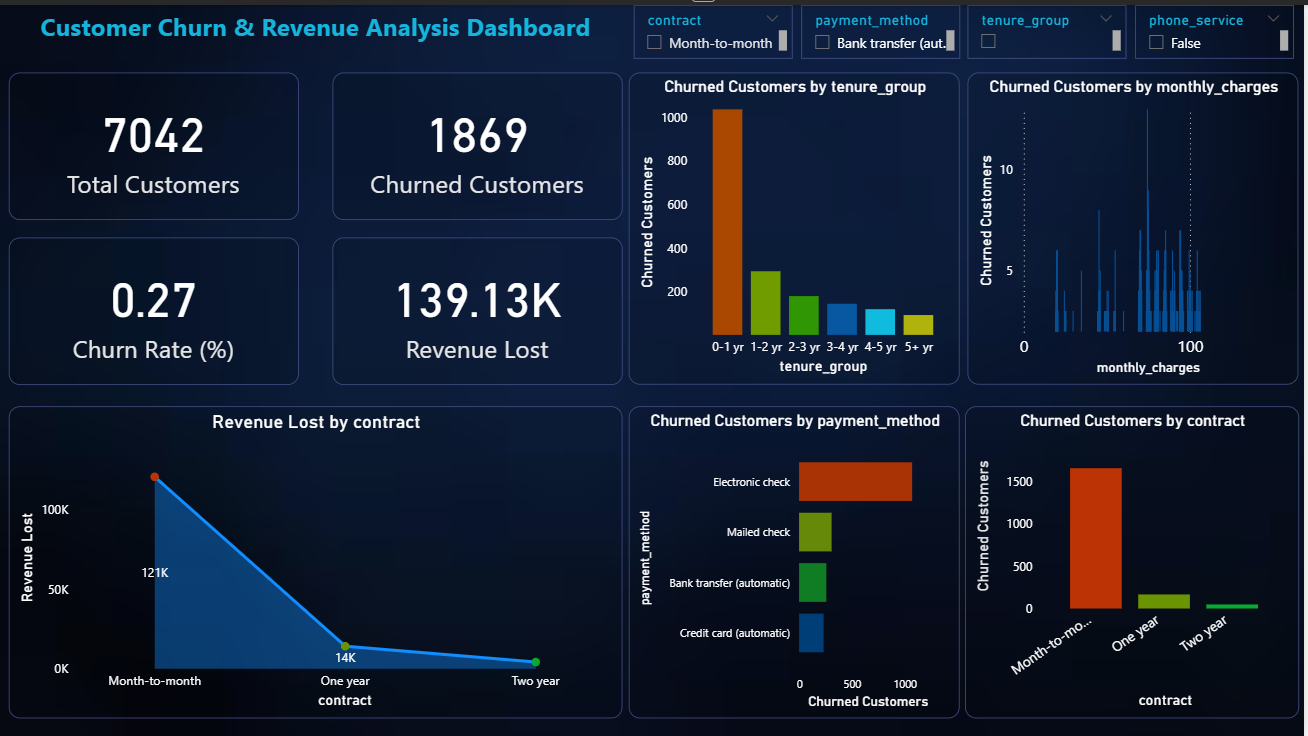

Layout of this report page (visuals, bound fields, positions):
{"tool":"powerbi","page":{"name":"Page 1","canvas":[1280,720],"ordinal":0},"visuals":[{"type":"slicer","fields":{"Values":["churn_final.contract"]},"box":[776.7,0,168.8,85.1],"z":0},{"type":"slicer","fields":{"Values":["churn_final.tenure_group"]},"box":[942.7,0,168.8,85.1],"z":1000},{"type":"slicer","fields":{"Values":["churn_final.payment_method"]},"box":[1111.5,0,168.8,85.1],"z":2000},{"type":"clusteredColumnChart","fields":{"Y":["churn_final.Revenue Lost"]},"box":[607.9,85.1,160.5,241.5],"z":3000},{"type":"textbox","box":[382.3,460.6,169,259],"z":4000},{"type":"textbox","box":[20,100.2,150,221],"z":5000},{"type":"textbox","box":[0,0,768.4,85.1],"z":6000},{"type":"clusteredColumnChart","fields":{"Y":["churn_final.Total Customers"]},"box":[0,85.1,140,241.5],"z":7000},{"type":"clusteredColumnChart","fields":{"Y":["churn_final.Churned Customers"]},"box":[289.5,85.1,157.8,241.5],"z":8000},{"type":"clusteredColumnChart","fields":{"Y":["churn_final.Churn Rate (%)"]},"box":[140,85.1,149.6,241.5],"z":9000},{"type":"clusteredColumnChart","fields":{"Y":["churn_final.Active Customers"]},"box":[447.3,85.1,160.5,241.5],"z":10000},{"type":"clusteredColumnChart","fields":{"Category":["churn_final.contract"],"Y":["churn_final.Churned Customers"]},"box":[776.7,85.1,503.6,286.8],"z":11000},{"type":"clusteredColumnChart","fields":{"Category":["churn_final.tenure_group"],"Y":["churn_final.Churned Customers"]},"box":[382.8,371.9,385.6,348.5],"z":12000},{"type":"clusteredColumnChart","fields":{"Category":["churn_final.payment_method"],"Y":["churn_final.Churned Customers"]},"box":[0,371.9,382.8,348.5],"z":13000},{"type":"clusteredColumnChart","fields":{"Category":["churn_final.contract"],"Y":["churn_final.Revenue Lost"]},"box":[776.7,371.9,503.6,348.5],"z":14000}]}

Visuals, with their boxes in screenshot pixels (x1, y1, x2, y2), scaled from the page's 1280x720 canvas onto the 1308x736 screenshot:
slicer - churn_final.contract: (x1=794, y1=0, x2=966, y2=87)
slicer - churn_final.tenure_group: (x1=963, y1=0, x2=1136, y2=87)
slicer - churn_final.payment_method: (x1=1136, y1=0, x2=1307, y2=87)
clusteredColumnChart - churn_final.Revenue Lost: (x1=621, y1=87, x2=785, y2=334)
textbox: (x1=391, y1=471, x2=563, y2=735)
textbox: (x1=20, y1=102, x2=174, y2=328)
textbox: (x1=0, y1=0, x2=785, y2=87)
clusteredColumnChart - churn_final.Total Customers: (x1=0, y1=87, x2=143, y2=334)
clusteredColumnChart - churn_final.Churned Customers: (x1=296, y1=87, x2=457, y2=334)
clusteredColumnChart - churn_final.Churn Rate (%): (x1=143, y1=87, x2=296, y2=334)
clusteredColumnChart - churn_final.Active Customers: (x1=457, y1=87, x2=621, y2=334)
clusteredColumnChart - churn_final.contract x churn_final.Churned Customers: (x1=794, y1=87, x2=1307, y2=380)
clusteredColumnChart - churn_final.tenure_group x churn_final.Churned Customers: (x1=391, y1=380, x2=785, y2=735)
clusteredColumnChart - churn_final.payment_method x churn_final.Churned Customers: (x1=0, y1=380, x2=391, y2=735)
clusteredColumnChart - churn_final.contract x churn_final.Revenue Lost: (x1=794, y1=380, x2=1307, y2=735)
